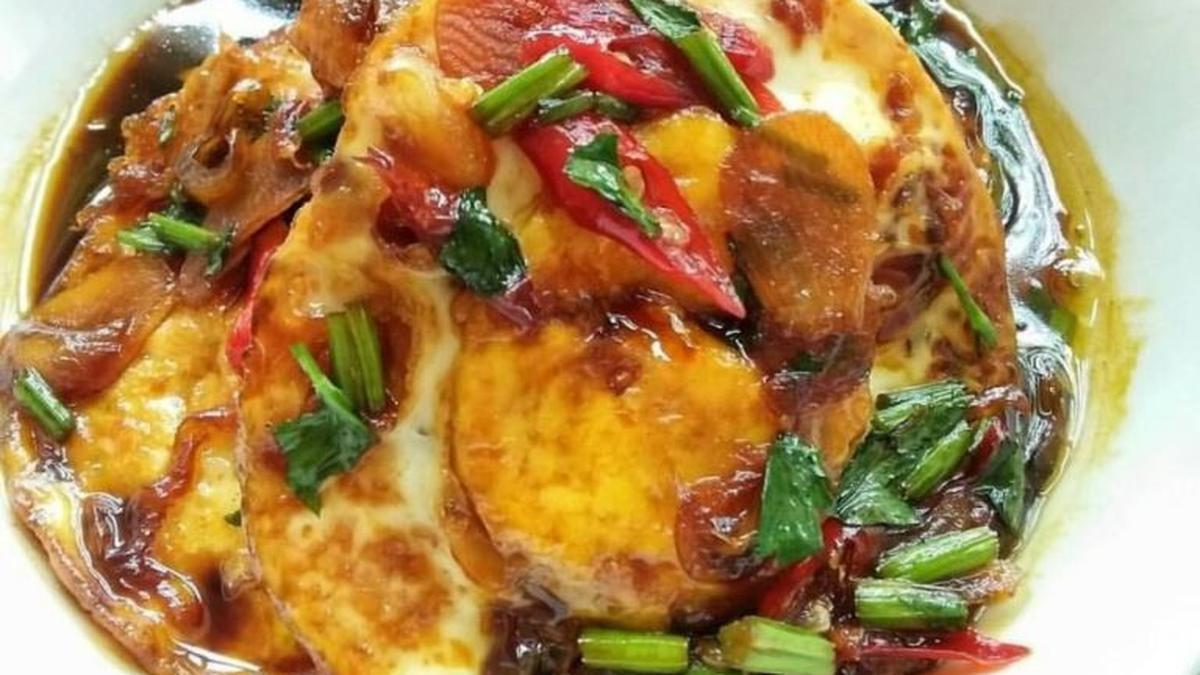telur: (180, 32, 899, 669)
